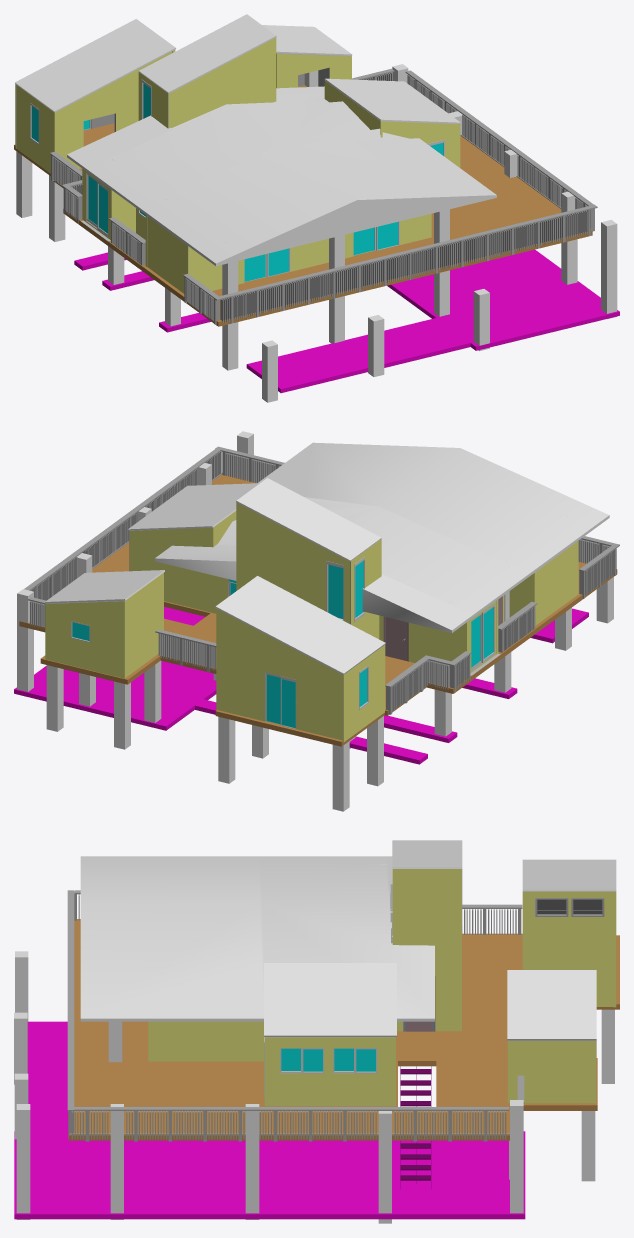
The model's file is Baldwin.fbx.
The picture shows the model from 3 angles, top to bottom: view 1: azimuth 30°, elevation 25°; view 2: azimuth 150°, elevation 25°; view 3: azimuth 270°, elevation 25°; orthographic projection. The views are drawn at different scales.
Visible parts, largest first — view 1: pCube560, pCube1434, pCube1423, pCube565, pCube587, pCube1352, pCube566, pCube561, pCube575, pCube584, pCube466, pCube446 (+22 smaller); view 2: pCube560, pCube587, pCube1434, pCube1352, pCube584, pCube565, pCube1423, pCube566, pCube575, pCube561, pCube564, pCube466 (+24 smaller); view 3: pCube560, pCube1434, pCube1423, pCube561, pCube1352, pCube575, pCube587, pCube564, pCube584, pCube435, pCube565, pCube566 (+21 smaller).
Part boxes in pixels (x1,y1,x2,y2): pCube560: [67, 86, 496, 266]; pCube1434: [74, 249, 619, 393]; pCube1423: [14, 85, 592, 326]; pCube565: [15, 19, 175, 112]; pCube587: [15, 50, 175, 173]; pCube1352: [138, 37, 276, 128]; pCube566: [139, 14, 276, 93]; pCube561: [324, 78, 460, 123]; pCube575: [324, 81, 460, 167]; pCube584: [276, 53, 351, 88]; pCube466: [147, 216, 188, 293]; pCube446: [188, 240, 322, 290]; pCube560: [154, 442, 609, 632]; pCube587: [216, 608, 385, 742]; pCube1434: [14, 606, 588, 764]; pCube1352: [236, 502, 381, 639]; pCube584: [45, 573, 163, 678]; pCube565: [215, 576, 385, 674]; pCube1423: [19, 474, 617, 746]; pCube566: [236, 478, 381, 561]; pCube575: [129, 511, 236, 612]; pCube561: [128, 483, 259, 530]; pCube564: [45, 570, 164, 603]; pCube466: [536, 541, 578, 624]; pCube560: [80, 856, 434, 1021]; pCube1434: [14, 1021, 525, 1219]; pCube1423: [69, 919, 619, 1140]; pCube561: [264, 963, 396, 1036]; pCube1352: [392, 869, 461, 1031]; pCube575: [264, 1037, 395, 1106]; pCube587: [522, 891, 616, 1007]; pCube564: [507, 970, 596, 1040]; pCube584: [507, 1040, 596, 1103]; pCube435: [148, 1021, 263, 1061]; pCube565: [522, 859, 616, 891]; pCube566: [392, 840, 462, 868].
Bounding box in the file's own units: 256 × 140 × 298.
